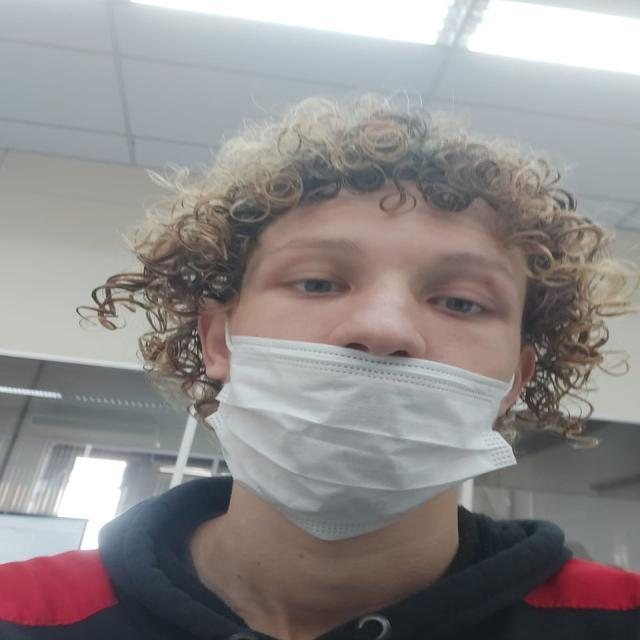hairnet: (227, 159, 506, 537)
